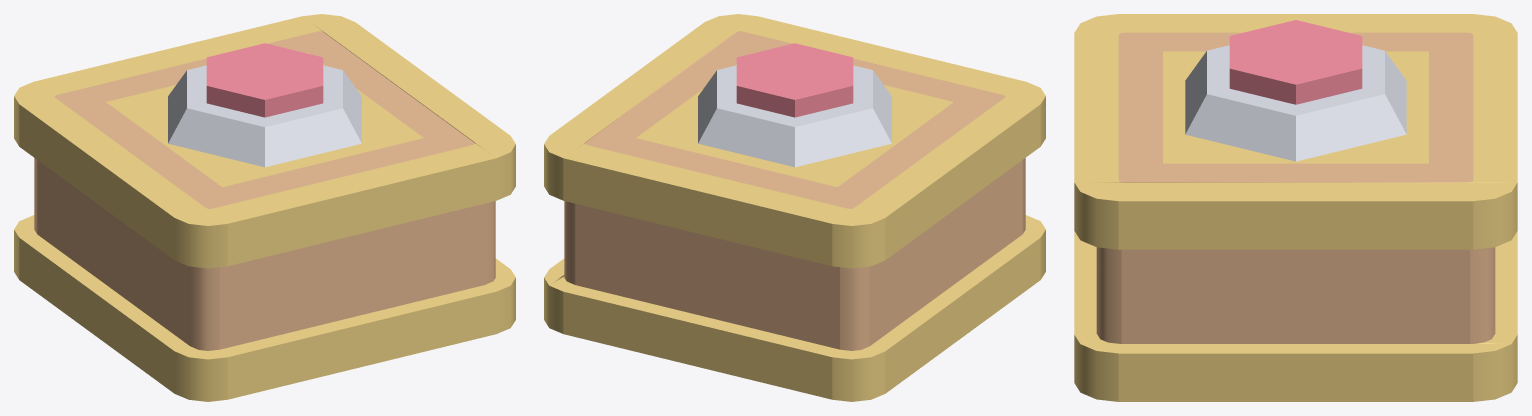
The model's file is PotteryWheel.fbx.
3 renders of one model, left to right at view 1: azimuth 30°, elevation 25°; view 2: azimuth 150°, elevation 25°; view 3: azimuth 270°, elevation 25°, orthographic. The views are drawn at different scales.
Visible parts, largest first — view 1: blockMovingLarge, buttonRound, knob; view 2: blockMovingLarge, buttonRound, knob; view 3: blockMovingLarge, buttonRound, knob.
Part boxes in pixels (box(x1,y1,x2,y2)): blockMovingLarge: box(14, 14, 515, 401); buttonRound: box(168, 65, 361, 167); knob: box(206, 43, 323, 117); blockMovingLarge: box(544, 14, 1045, 401); buttonRound: box(698, 65, 891, 167); knob: box(736, 43, 853, 117); blockMovingLarge: box(1074, 14, 1517, 401); buttonRound: box(1185, 45, 1406, 161); knob: box(1229, 20, 1362, 104).
Size of the model in its own units: 15 by 9.56 by 15.
